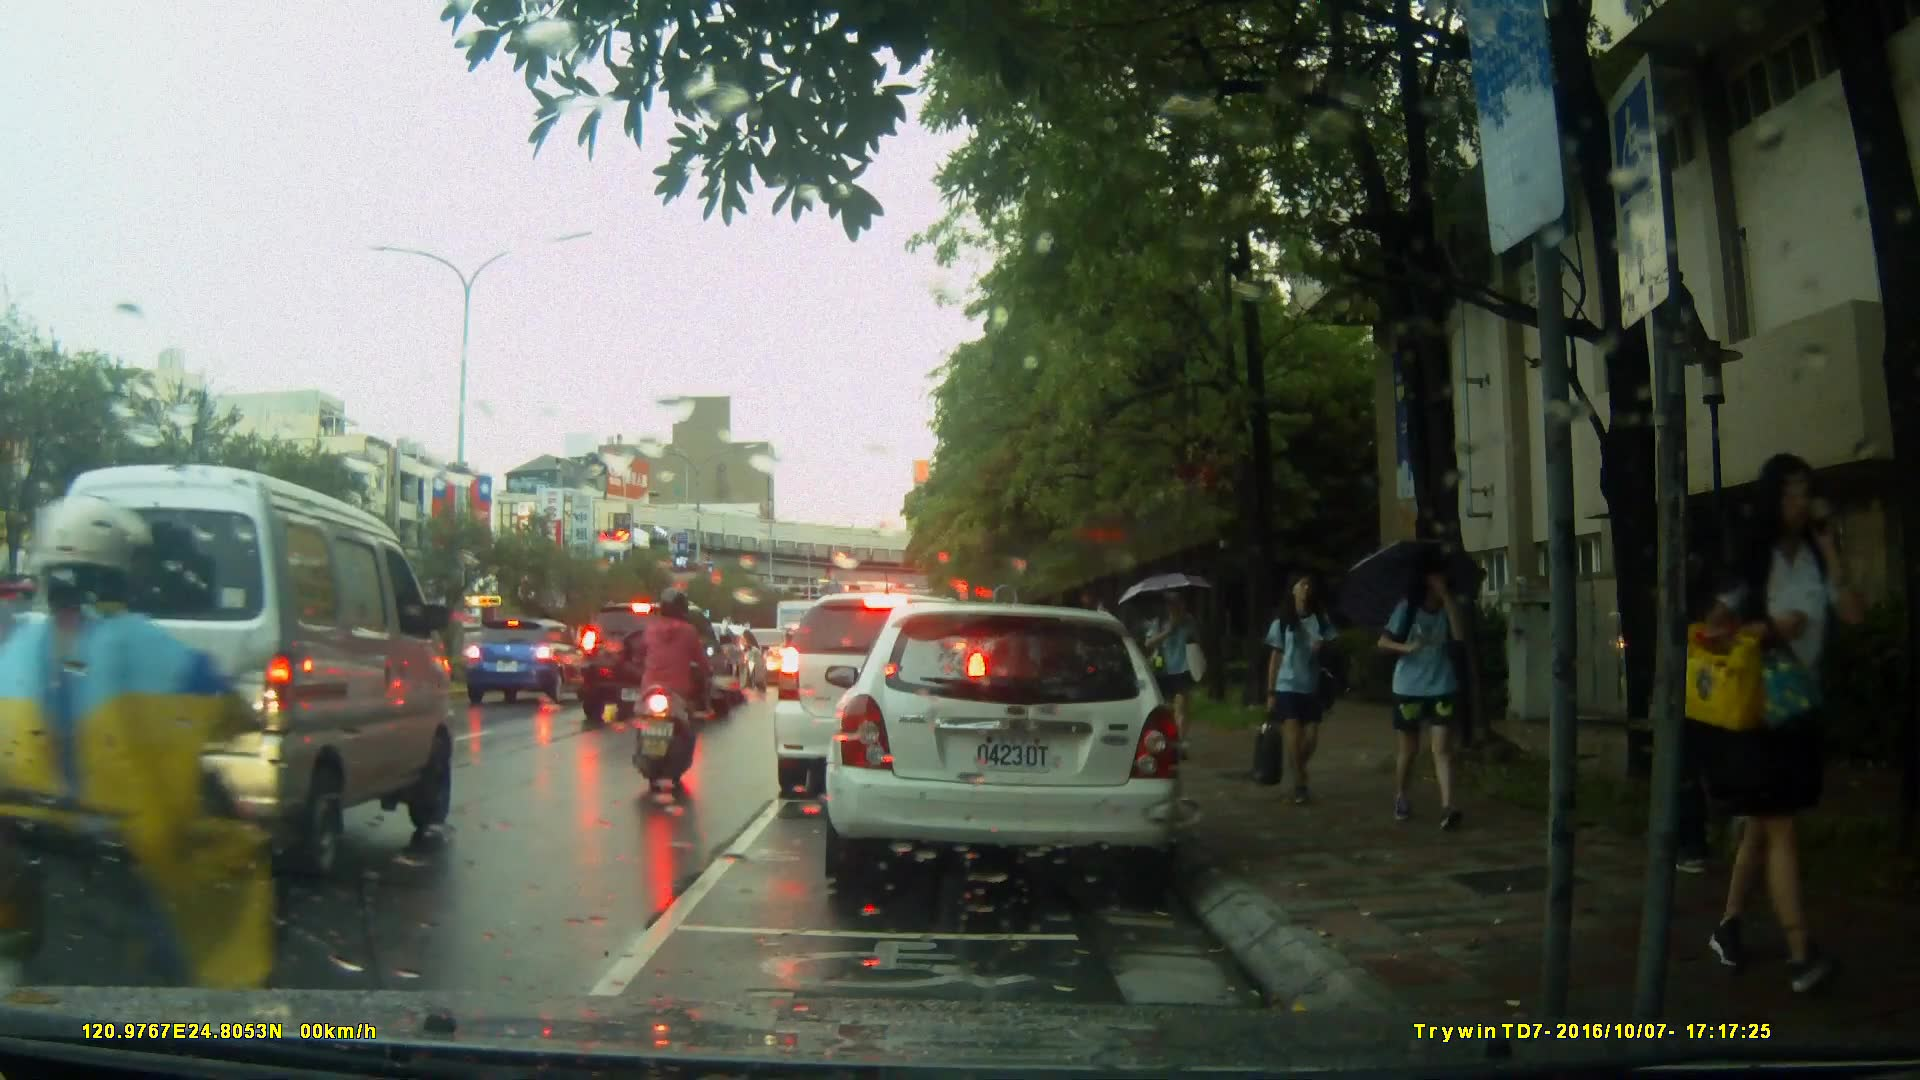pedestrian: (1696, 437, 1859, 995), (1662, 507, 1774, 893), (1361, 545, 1478, 833), (1251, 566, 1337, 807), (1149, 585, 1212, 756)
rider: (1, 507, 304, 1062), (634, 587, 713, 784)
vehicle: (26, 465, 459, 887), (815, 593, 1204, 909), (771, 590, 994, 802), (574, 602, 737, 726), (469, 617, 595, 709)
